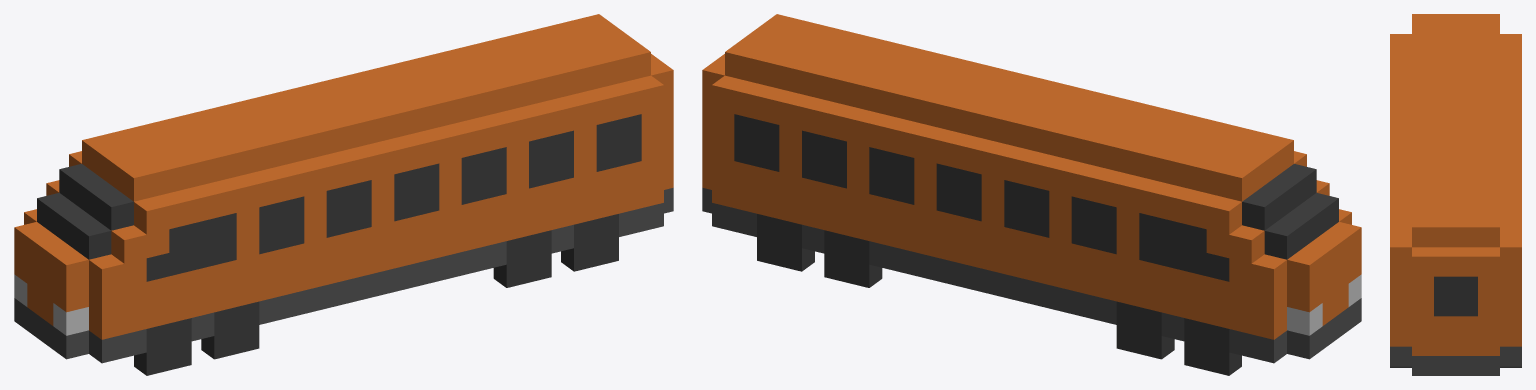
File: train-v2-orange.gltf
The picture shows the model from 3 angles, left to right: view 1: azimuth 30°, elevation 25°; view 2: azimuth 150°, elevation 25°; view 3: azimuth 270°, elevation 25°; orthographic projection. The views are drawn at different scales.
Parts seen in each view (by area): view 1: model, wheels; view 2: model, wheels; view 3: model.
Part boxes in pixels (bbox=[...]): model: bbox=[14, 14, 673, 363]; wheels: bbox=[134, 214, 618, 375]; model: bbox=[702, 14, 1361, 363]; wheels: bbox=[757, 214, 1241, 375]; model: bbox=[1390, 14, 1521, 375].
Bounding box in the file's own units: 2.7 × 0.8 × 0.6.
Materials: 2 (2 with a texture image).
